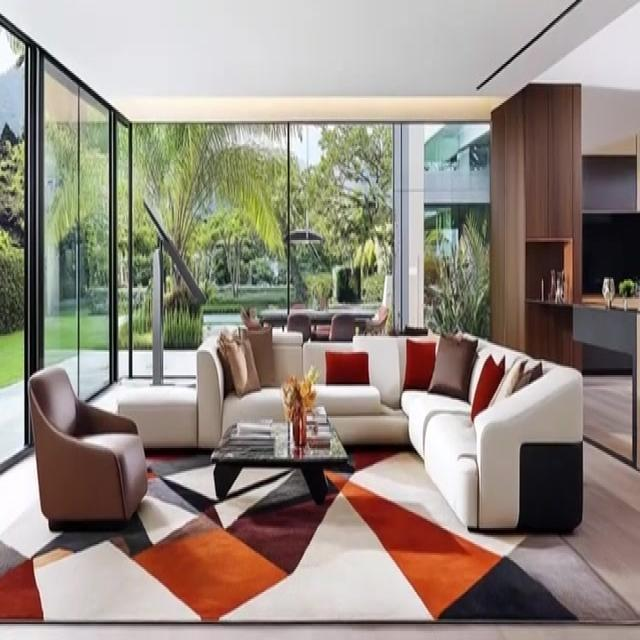obstacle: (196, 325, 584, 535), (27, 364, 147, 532), (210, 411, 354, 505)
